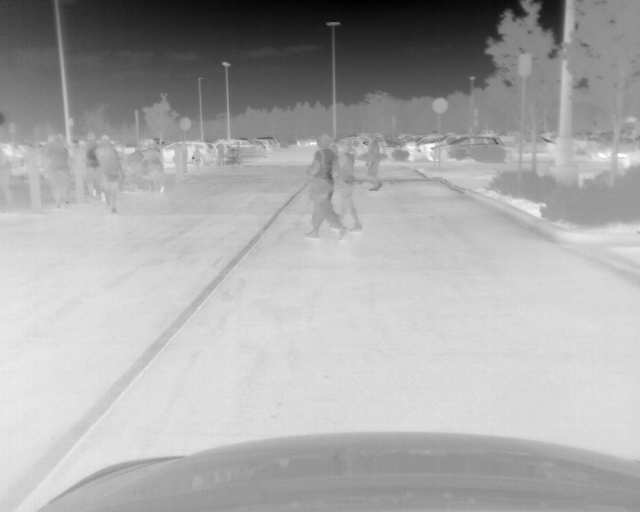car: (338, 139, 420, 162), (431, 135, 504, 157), (164, 142, 215, 167), (517, 135, 558, 155), (239, 138, 265, 154), (262, 140, 275, 154), (298, 139, 318, 146)
people: (304, 132, 347, 241), (42, 138, 73, 212), (338, 145, 361, 234), (97, 138, 122, 215), (81, 133, 106, 201), (141, 143, 165, 195), (364, 138, 383, 195), (1, 148, 17, 213), (192, 147, 205, 172), (233, 142, 243, 166), (217, 143, 225, 168)
